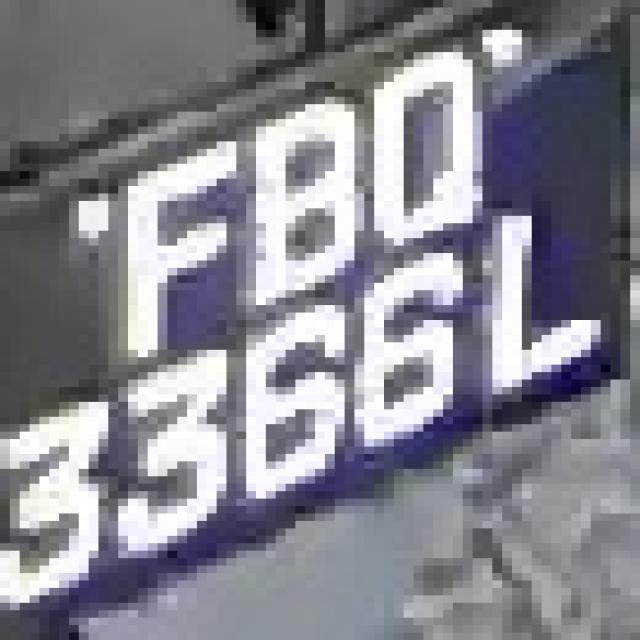3: (108, 312, 236, 566), (0, 394, 118, 618)
6: (335, 245, 453, 469), (226, 297, 344, 498)
B: (227, 82, 374, 290)
F: (108, 127, 246, 372)
L: (482, 193, 620, 417)
Q: (345, 52, 502, 231)
